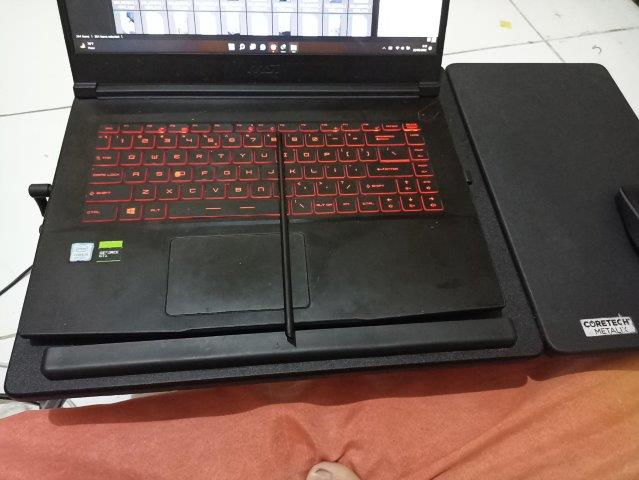sedotan: (275, 133, 295, 342)
